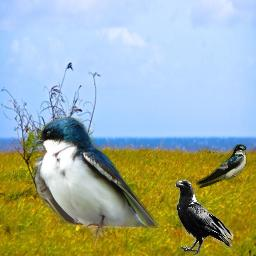Crow: (173, 179, 233, 255)
Swallow: (31, 115, 160, 246), (196, 144, 247, 189)
